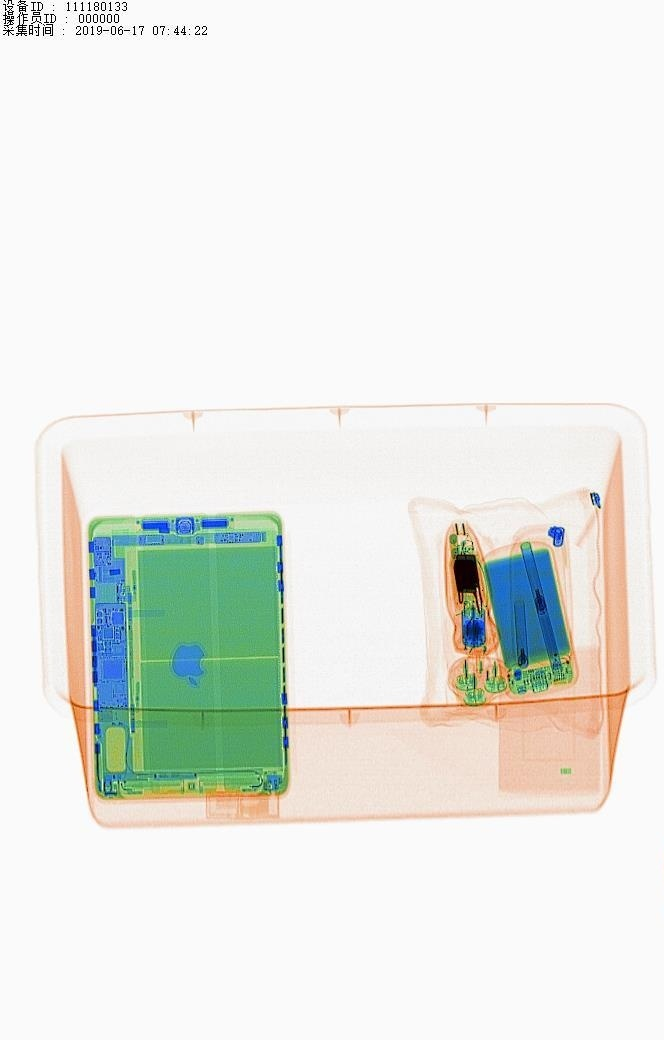NonmetallicFire: (496, 549, 575, 697)
